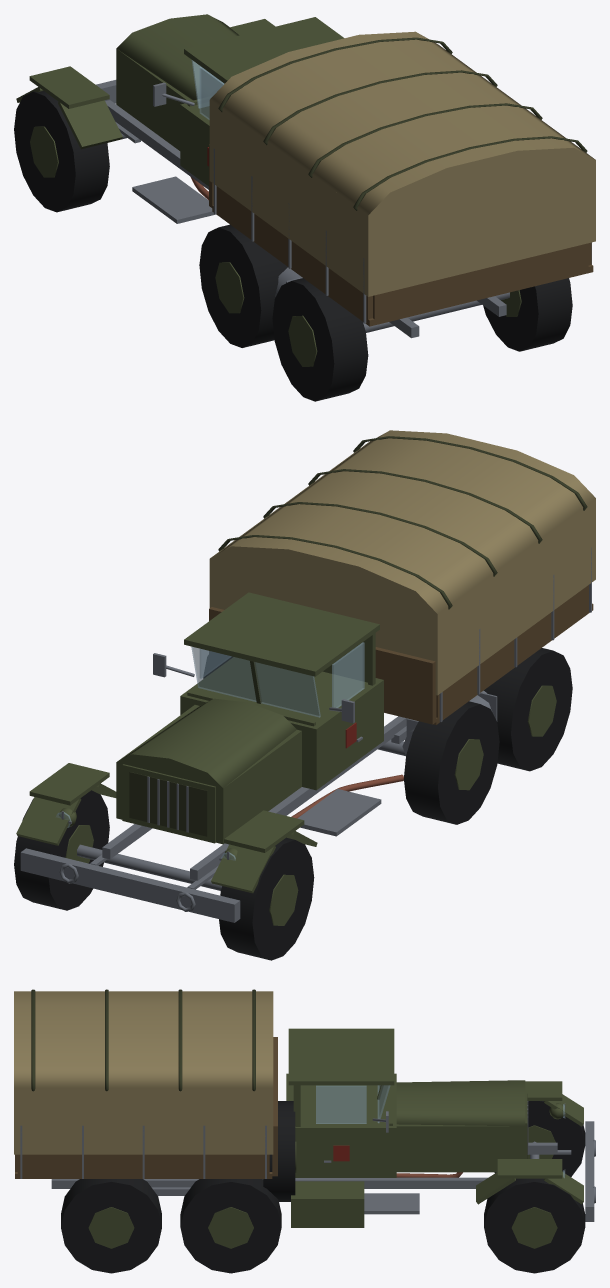
The model's file is zil-157-six-wheel.glb.
The picture shows the model from 3 angles, top to bottom: view 1: azimuth 30°, elevation 25°; view 2: azimuth 150°, elevation 25°; view 3: azimuth 270°, elevation 25°; orthographic projection. The views are drawn at different scales.
Parts seen in each view (by area): view 1: Mesh_CanvasTopCurve, Mesh_CanvasCover, Mesh_Tire_RL, Mesh_Tire_FL, Mesh_Tire_ML, Mesh_BedTailgate, Mesh_HoodTop, Mesh_CabRoof, Mesh_Tire_RR, Mesh_BedLeftWall, Mesh_EngineBay, Mesh_Step_L (+15 smaller); view 2: Mesh_CanvasTopCurve, Mesh_CanvasCover, Mesh_CabBase, Mesh_CabRoof, Mesh_HoodTop, Mesh_Tire_ML, Mesh_Tire_RL, Mesh_Tire_FL, Mesh_EngineBay, Mesh_Bumper, Mesh_Windshield, Mesh_Tire_FR (+22 smaller); view 3: Mesh_CanvasTopCurve, Mesh_CanvasCover, Mesh_CabBase, Mesh_Tire_RR, Mesh_Tire_MR, Mesh_Tire_FR, Mesh_CabRoof, Mesh_EngineBay, Mesh_HoodTop, Mesh_BedRightWall, Mesh_ToolBoxR, Mesh_ChassisRailR (+20 smaller).
Boxes of the visible parts, box(x1,y1,x2,y2) form: Mesh_CanvasTopCurve: box(210, 31, 595, 225); Mesh_CanvasCover: box(209, 100, 595, 296); Mesh_Tire_RL: box(272, 278, 368, 401); Mesh_Tire_FL: box(14, 91, 109, 212); Mesh_Tire_ML: box(199, 224, 287, 347); Mesh_BedTailgate: box(373, 243, 588, 321); Mesh_HoodTop: box(116, 14, 239, 100); Mesh_CabRoof: box(184, 17, 344, 83); Mesh_Tire_RR: box(483, 278, 572, 351); Mesh_BedLeftWall: box(216, 186, 372, 321); Mesh_EngineBay: box(116, 25, 240, 150); Mesh_Step_L: box(132, 176, 215, 223); Mesh_CanvasTopCurve: box(210, 430, 595, 626); Mesh_CanvasCover: box(209, 498, 595, 695); Mesh_CabBase: box(180, 657, 383, 790); Mesh_CabRoof: box(184, 592, 379, 676); Mesh_HoodTop: box(116, 698, 296, 790); Mesh_Tire_ML: box(403, 701, 499, 824); Mesh_Tire_RL: box(484, 648, 572, 771); Mesh_Tire_FL: box(219, 837, 314, 960); Mesh_EngineBay: box(116, 705, 301, 844); Mesh_Bumper: box(20, 848, 240, 922); Mesh_Windshield: box(191, 647, 320, 717); Mesh_Tire_FR: box(14, 790, 109, 910); Mesh_CanvasTopCurve: box(14, 991, 273, 1087); Mesh_CanvasCover: box(14, 1088, 273, 1154); Mesh_CabBase: box(286, 1073, 396, 1177); Mesh_Tire_RR: box(61, 1179, 161, 1273); Mesh_Tire_MR: box(180, 1179, 281, 1273); Mesh_Tire_FR: box(484, 1178, 585, 1273); Mesh_CabRoof: box(288, 1028, 394, 1085); Mesh_EngineBay: box(396, 1124, 525, 1172); Mesh_HoodTop: box(396, 1080, 525, 1126); Mesh_BedRightWall: box(17, 1154, 269, 1176); Mesh_ToolBoxR: box(291, 1181, 364, 1227); Mesh_ChassisRailR: box(51, 1177, 487, 1188).
Bounding box in the file's own units: 2.47 × 2.51 × 6.33.
2 materials, 2 textured.
